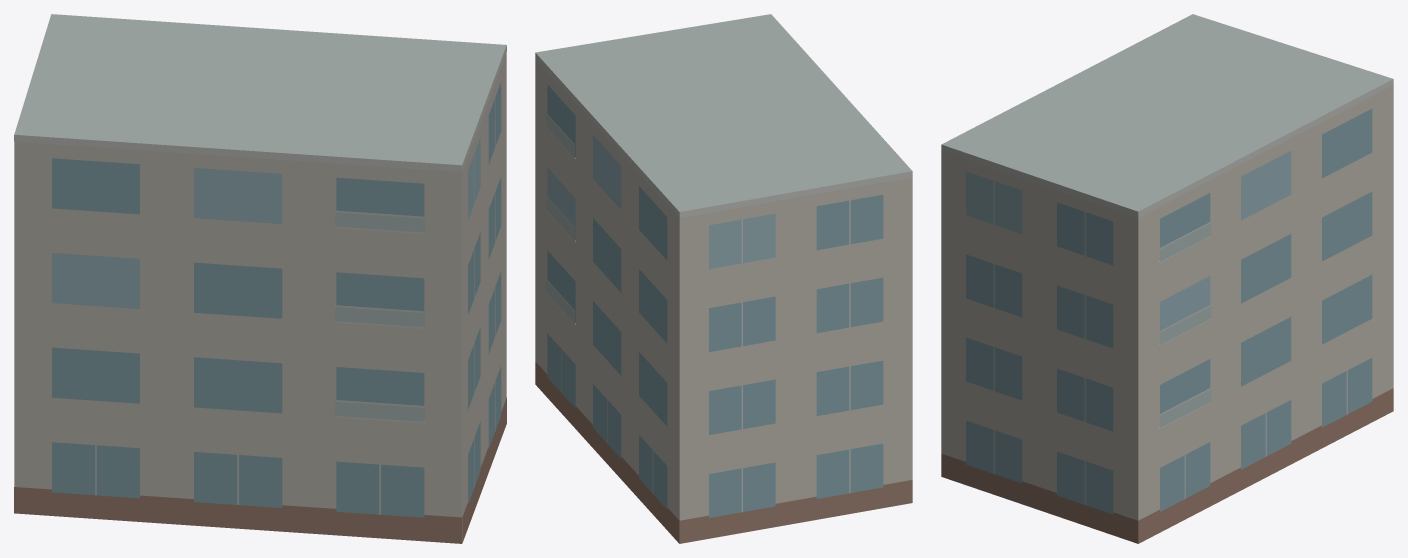
File: survey-upis-32705862.glb
3 renders of one model, left to right at view 1: azimuth 30°, elevation 25°; view 2: azimuth 150°, elevation 25°; view 3: azimuth 270°, elevation 25°, orthographic. The views are drawn at different scales.
Parts seen in each view (by area): view 1: survey-upis-32705862.tmp; view 2: survey-upis-32705862.tmp; view 3: survey-upis-32705862.tmp.
Boxes of the visible parts, x1,y1,x2,y2 form: survey-upis-32705862.tmp: [14, 14, 506, 543]; survey-upis-32705862.tmp: [535, 14, 912, 543]; survey-upis-32705862.tmp: [941, 14, 1393, 543].
Bounding box in the file's own units: 17.17 × 13.45 × 16.6.
